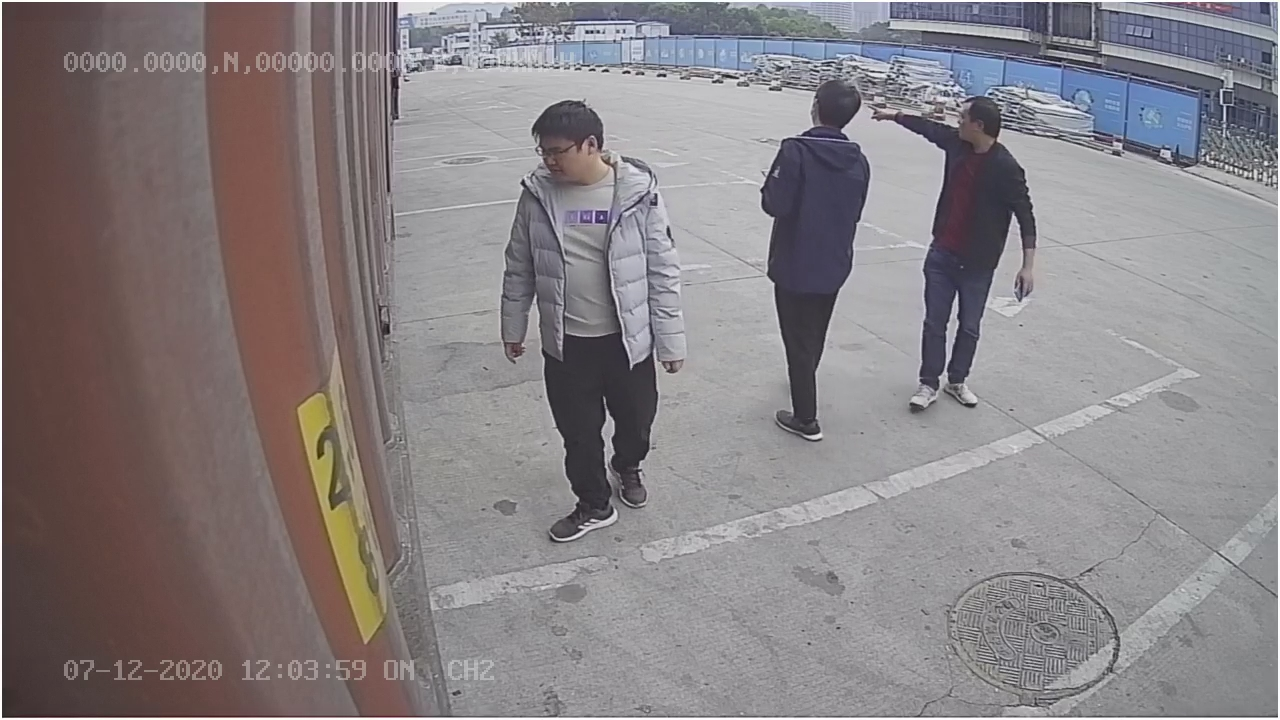person: (496, 95, 691, 546), (751, 77, 868, 447)
